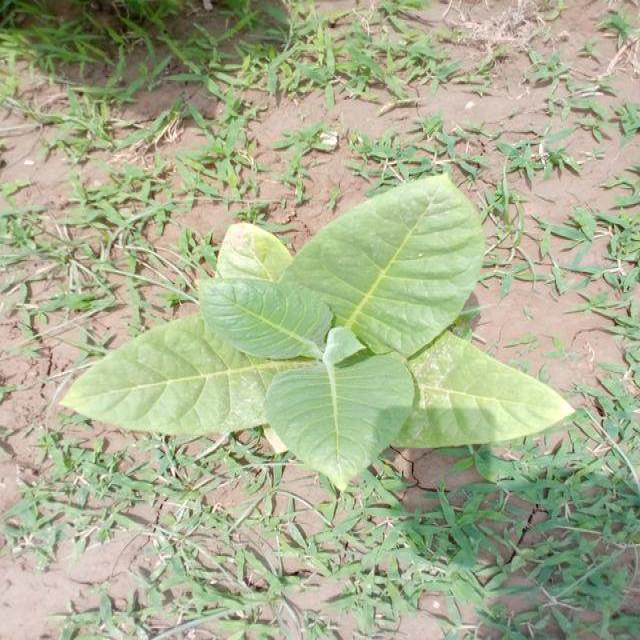crop: (58, 167, 572, 492)
